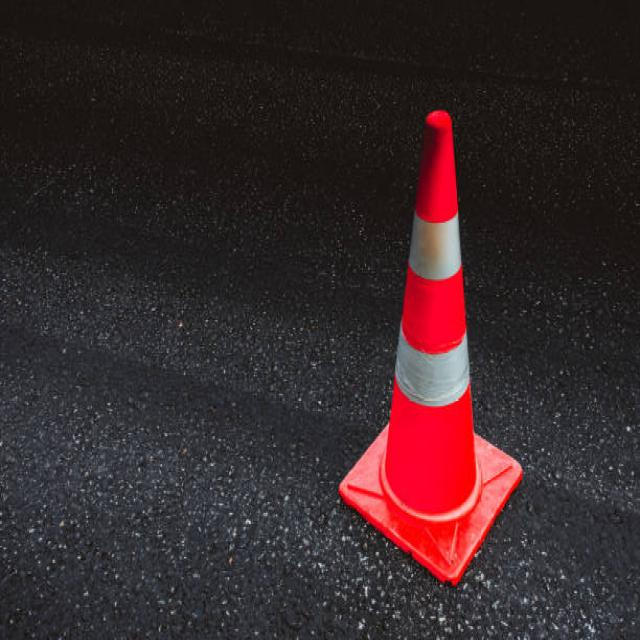Traffic Cone: (315, 71, 552, 608)
